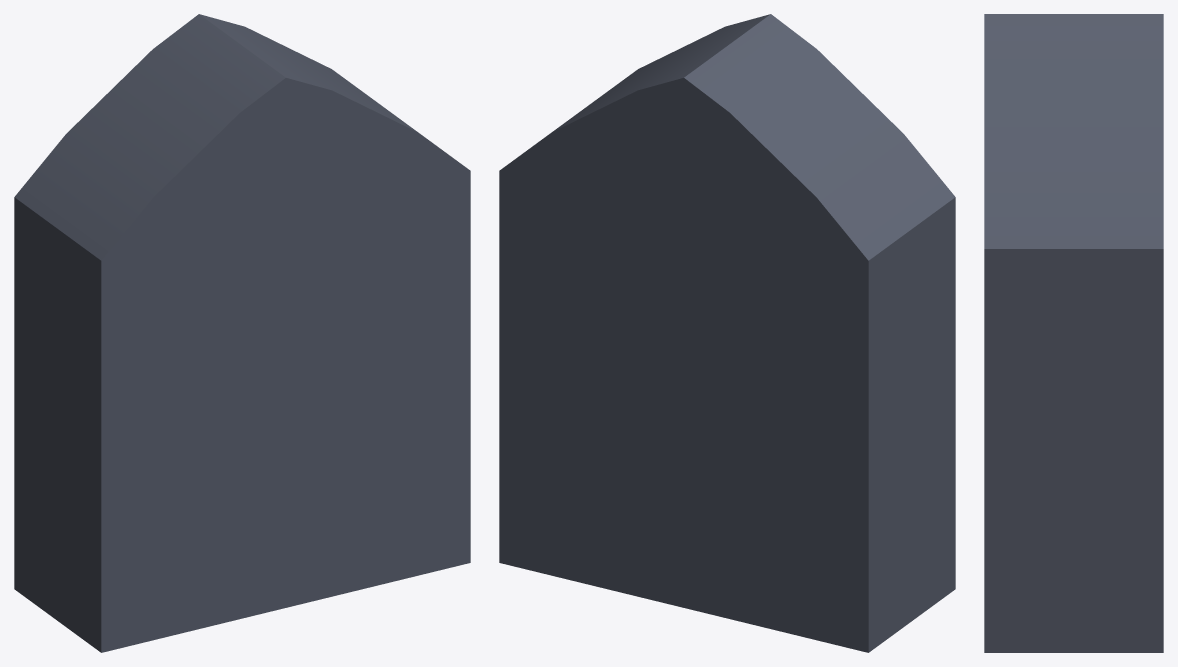
The model's file is Mesh_grave_stone_1.fbx.
3 views of the same model, side by side, from view 1: azimuth 30°, elevation 25°; view 2: azimuth 150°, elevation 25°; view 3: azimuth 270°, elevation 25° (orthographic). The views are drawn at different scales.
Visible parts, largest first — view 1: grave_stone_1; view 2: grave_stone_1; view 3: grave_stone_1.
Part boxes in pixels (x1,y1,x2,y2): grave_stone_1: [14, 14, 470, 652]; grave_stone_1: [499, 14, 955, 652]; grave_stone_1: [984, 14, 1163, 652].
Bounding box in the file's own units: 107 × 147 × 43.67.
Materials: 1 (1 with a texture image).
